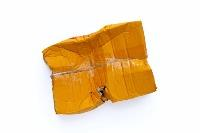damaged package: (92, 84, 114, 105)
undamaged: (39, 16, 165, 117)
